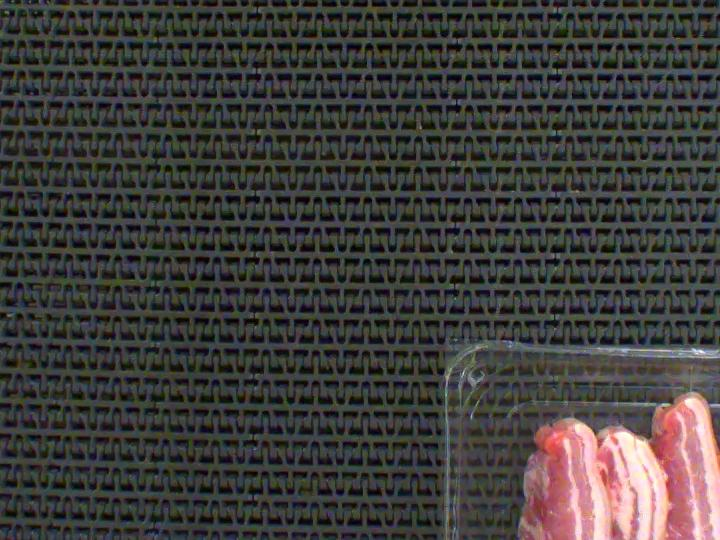packaging-error: (661, 362, 720, 413)
